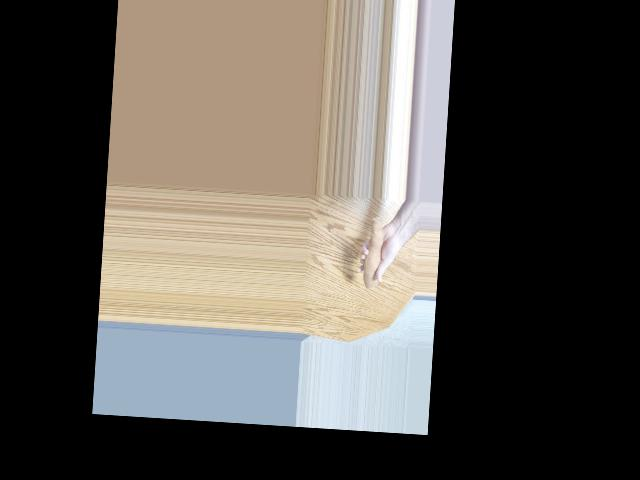sweet_potato: (360, 213, 393, 295)
